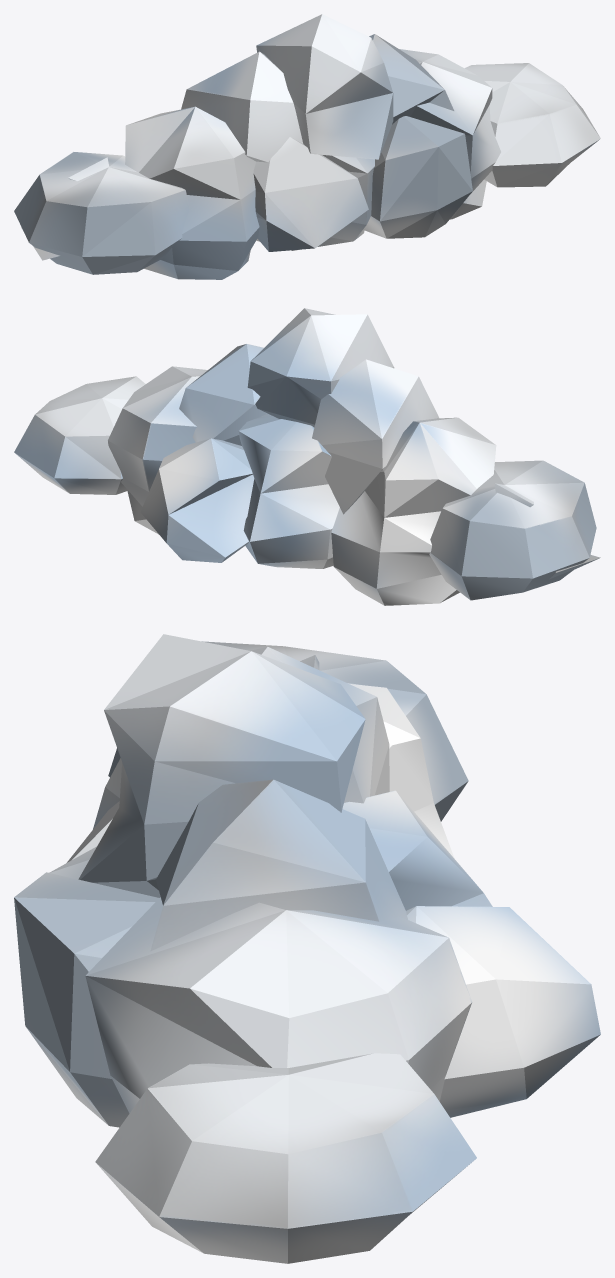
File: cloud.fbx
3 views of the same model, one above another, from view 1: azimuth 30°, elevation 25°; view 2: azimuth 150°, elevation 25°; view 3: azimuth 270°, elevation 25° (orthographic). The views are drawn at different scales.
Parts seen in each view (by area): view 1: cloud; view 2: cloud; view 3: cloud.
Boxes of the visible parts, x1,y1,x2,y2 form: cloud: (14,14,600,279); cloud: (14,308,600,605); cloud: (14,634,600,1263).
Bounding box in the file's own units: 7.86 × 3.24 × 3.73.
1 material, 1 textured.
